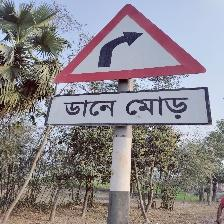Right-turn: (49, 2, 211, 127)
